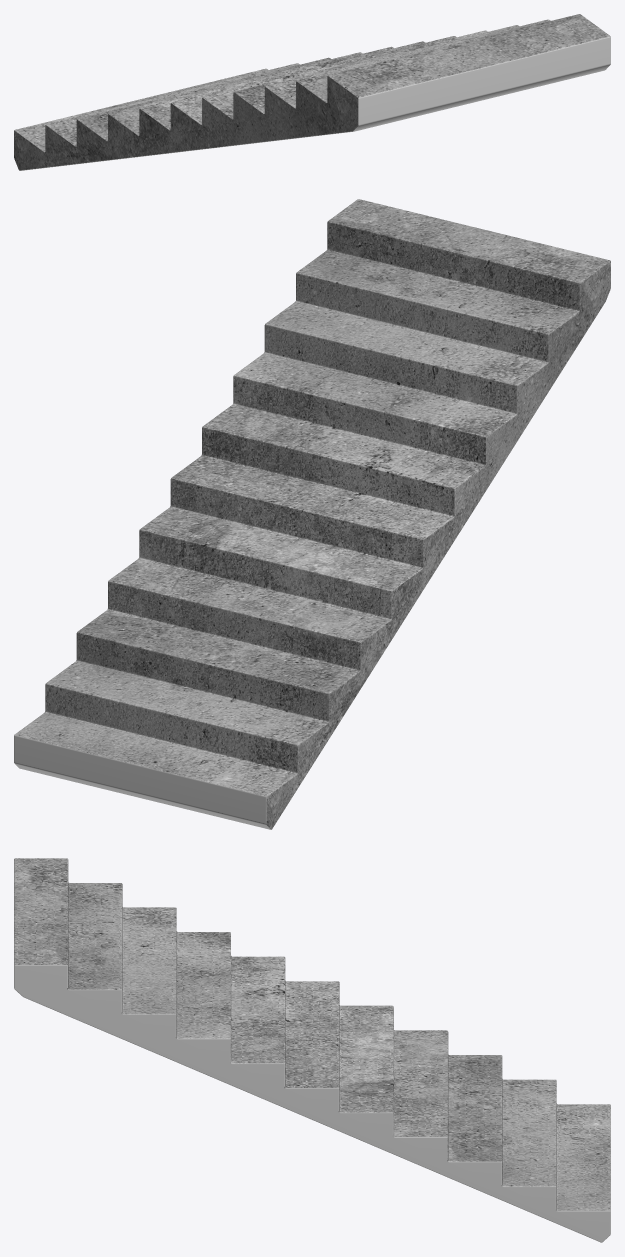
Rendered from fbStairs2.fbx.
The picture shows the model from 3 angles, top to bottom: view 1: azimuth 30°, elevation 25°; view 2: azimuth 150°, elevation 25°; view 3: azimuth 270°, elevation 25°; orthographic projection. The views are drawn at different scales.
Visible parts, largest first — view 1: Plane.014; view 2: Plane.014; view 3: Plane.014.
Part boxes in pixels (x1,y1,x2,y2): Plane.014: (14,14,610,170); Plane.014: (14,199,610,829); Plane.014: (14,858,610,1242).
Size of the model in its own units: 140 by 170 by 330.
